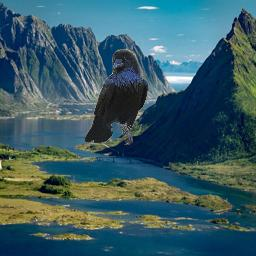Crow: (85, 49, 148, 145)
